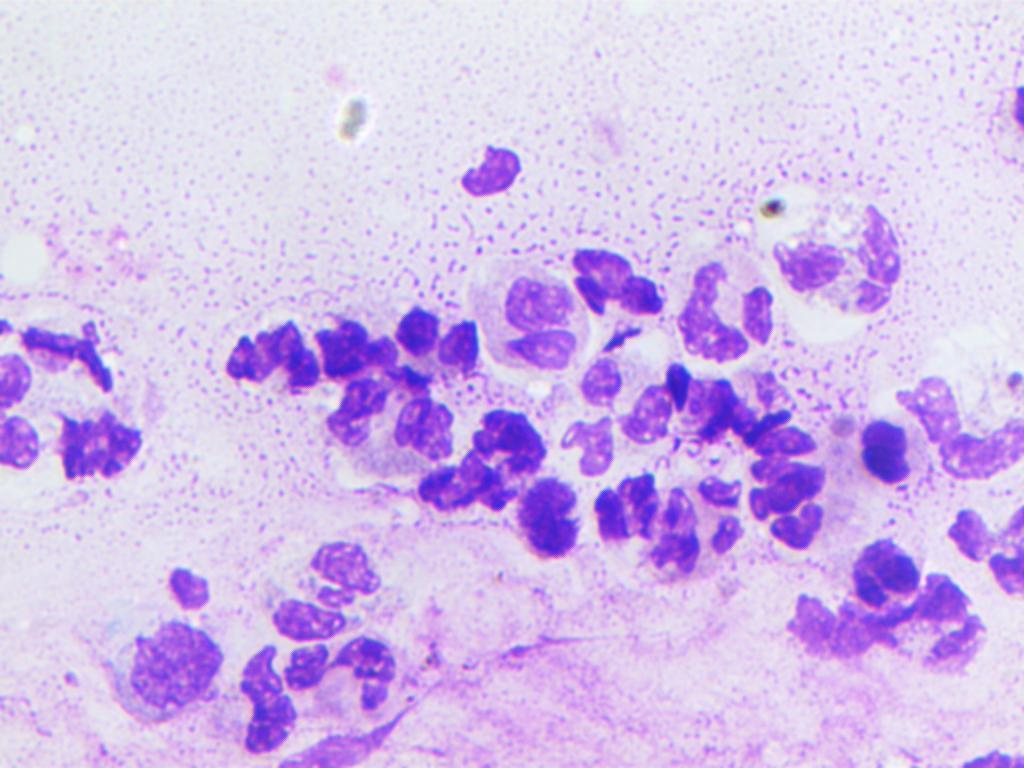artifact: (904, 371, 1024, 489), (18, 313, 122, 411), (453, 141, 536, 204), (319, 79, 386, 154)
lymphocyte: (97, 606, 230, 729), (47, 410, 162, 489)
neutrophil: (748, 186, 917, 330), (551, 349, 677, 476), (671, 362, 830, 458), (468, 251, 594, 368), (670, 254, 776, 368), (275, 630, 404, 720), (553, 240, 670, 327), (387, 295, 493, 388), (229, 647, 308, 767), (217, 312, 323, 398), (939, 493, 1024, 597), (306, 294, 402, 383), (467, 397, 553, 490), (746, 462, 828, 556), (831, 403, 915, 491), (414, 451, 524, 518), (655, 475, 744, 557), (287, 533, 380, 608), (314, 372, 397, 450), (587, 473, 663, 551), (391, 393, 465, 469), (520, 479, 583, 567), (853, 543, 923, 618)
